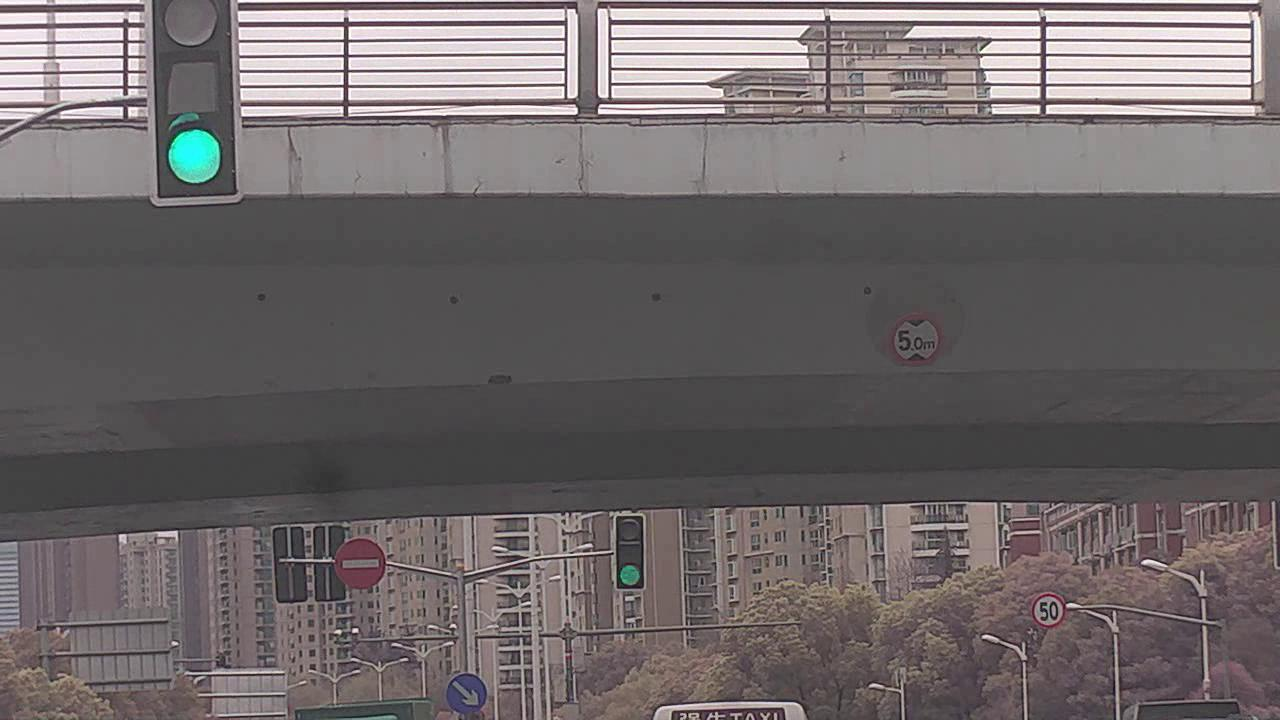traffic_light: (150, 4, 238, 198), (614, 516, 646, 589)
